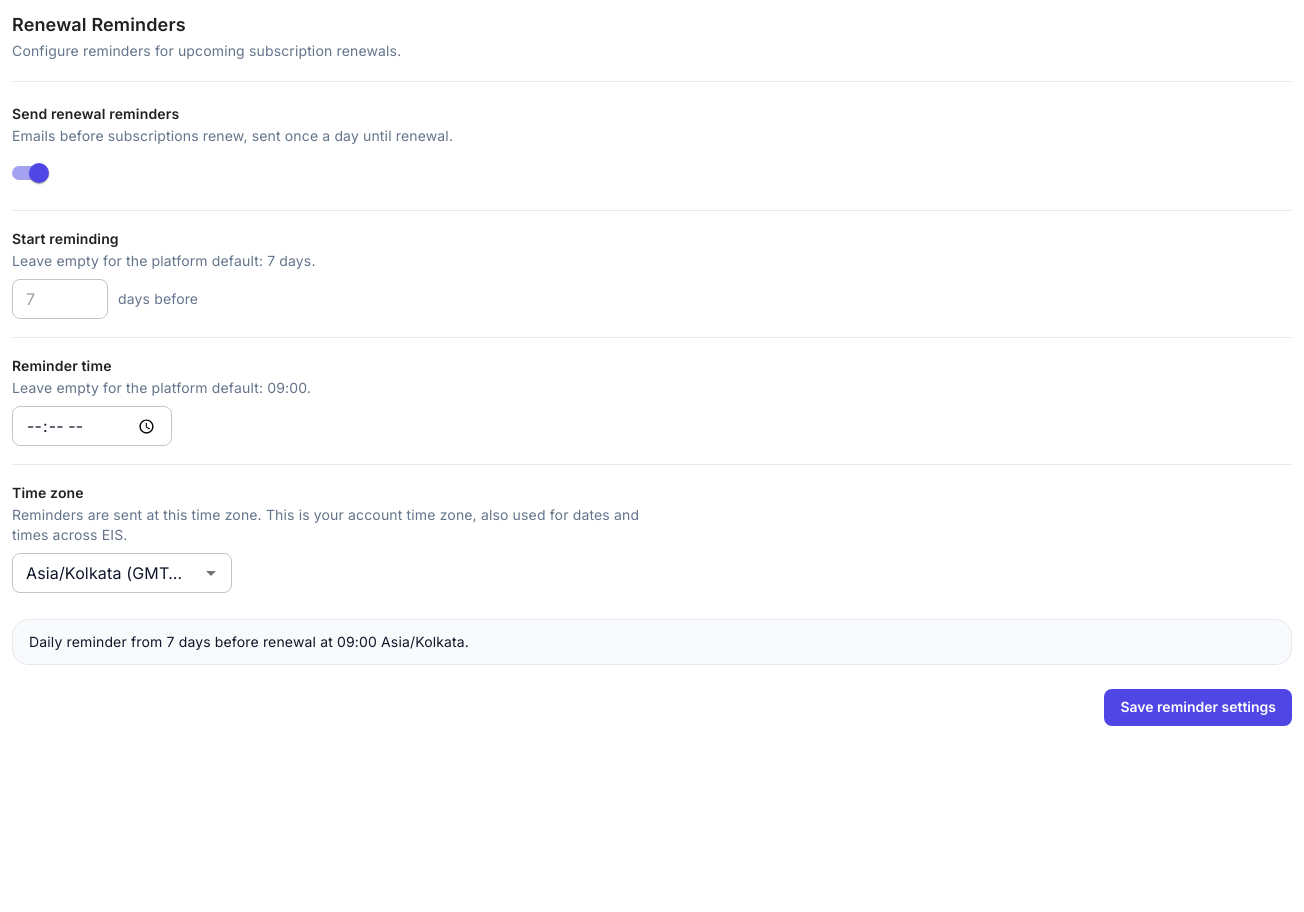
Test: RenewalRemindersCard › updates the summary as the values change
Step 1. Type "10" into the field named "Start reminding (days before renewal)" → (60, 299), box [12,279,108,319]
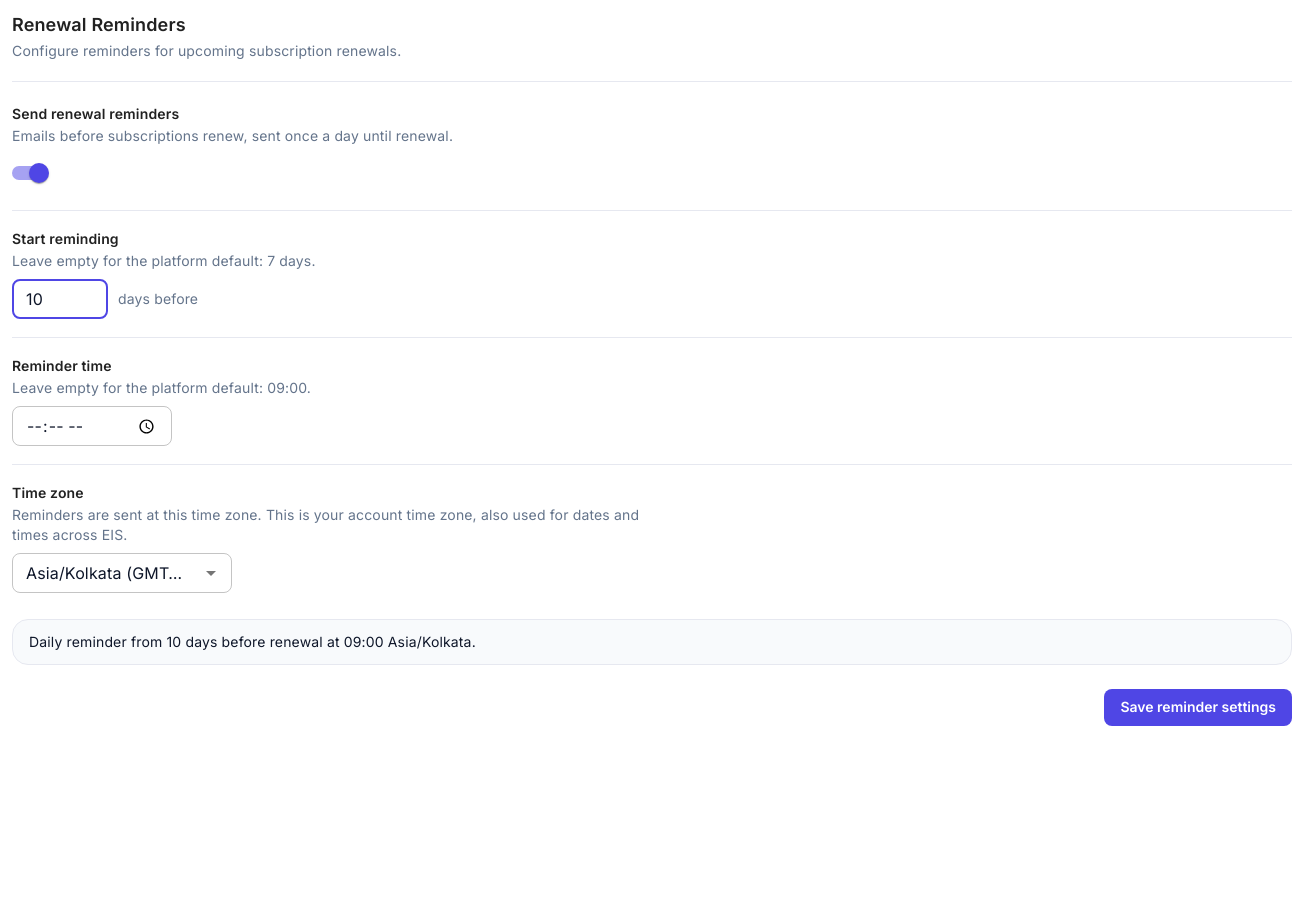
Now the message reads "Daily reminder from 10 days before renewal at 09:00 Asia/Kolkata.", box [29,633,476,650]
